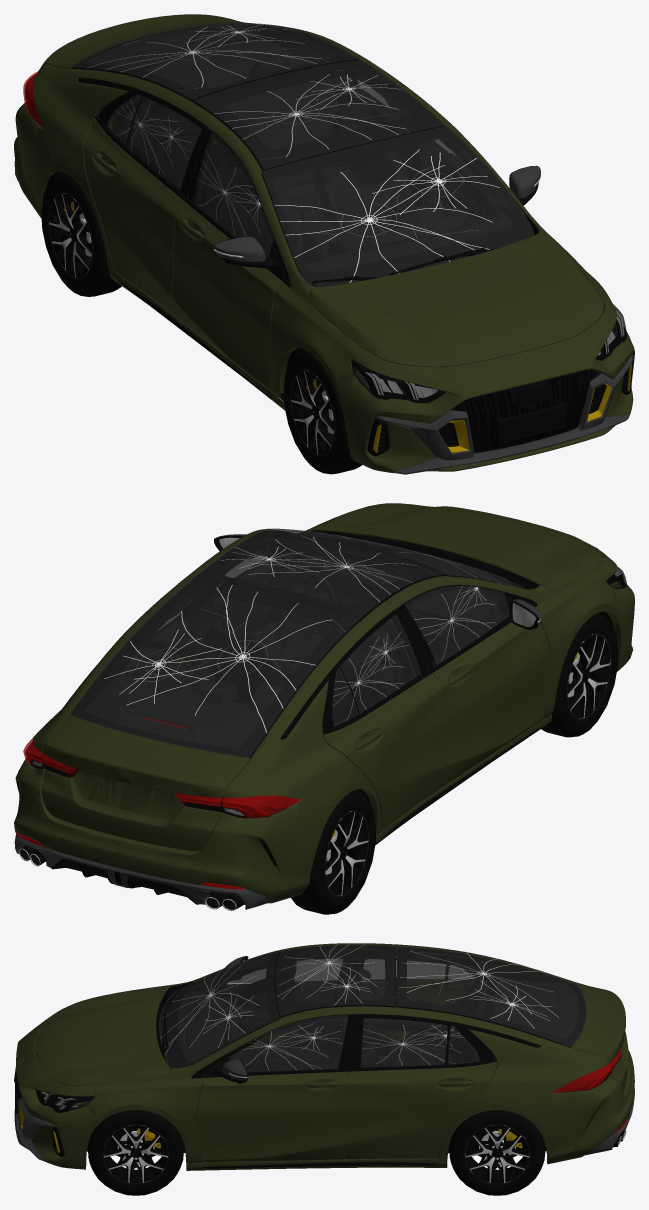
The model's file is GAC_Empow_High.glb.
3 views of the same model, one above another, from view 1: azimuth 30°, elevation 25°; view 2: azimuth 150°, elevation 25°; view 3: azimuth 270°, elevation 25° (orthographic). The views are drawn at different scales.
Parts seen in each view (by area): view 1: Interior__Interior, Body_Mid__C05__WindowsTrims, Body_Front__C13__Matte_Green, FrontBumper__C17__Matte_Green, Wheel_RR__Tires, Wheel_RF__Tires, Hood__C07__Matte_Green, FrontBumper__C12__Matte_Green, Body_Mid__C06__WindowsTrims, Body_Mid__C03__WindowsTrims, Hood__C04__Matte_Green, Hood__C03__Matte_Green (+119 smaller); view 2: Interior__Interior, Body_Front__C13__Matte_Green, Body_Rear__C08__Matte_Green, Body_Mid__C03__WindowsTrims, Wheel_RR__Tires, Wheel_RF__Tires, RearBumper__C11__Matte_Green, RearBumper__C02__Matte_Green, Body_Mid__C09__WindowsTrims, Trunk__C08__Matte_Green, RearBumper__C16__Matte_Green, Trunk__C09__Matte_Green (+112 smaller); view 3: Interior__Interior, RearBumper__C03__Matte_Green, Wheel_LF__Tires, Wheel_LR__Tires, Door_L__C10__Matte_Green, Door_L__C07__Matte_Green, Body_Rear__C14__Matte_Green, Wheel_LF__Rims2, Wheel_LR__Rims2, Door_L__C09__Matte_Green, Door_RL__C03__Matte_Green, Door_L__C08__Matte_Green (+119 smaller).
Part boxes in pixels (x1,y1,x2,y2): Interior__Interior: (86, 25, 513, 272); Body_Mid__C05__WindowsTrims: (303, 115, 444, 184); Body_Front__C13__Matte_Green: (270, 264, 344, 365); FrontBumper__C17__Matte_Green: (333, 347, 425, 439); Wheel_RR__Tires: (41, 172, 121, 296); Wheel_RF__Tires: (283, 349, 362, 474); Hood__C07__Matte_Green: (337, 309, 416, 365); FrontBumper__C12__Matte_Green: (411, 360, 506, 423); Body_Mid__C06__WindowsTrims: (219, 115, 327, 216); Body_Mid__C03__WindowsTrims: (122, 48, 290, 118); Hood__C04__Matte_Green: (373, 286, 456, 335); Hood__C03__Matte_Green: (501, 305, 589, 353); Interior__Interior: (86, 539, 516, 748); Body_Front__C13__Matte_Green: (523, 576, 603, 680); Body_Rear__C08__Matte_Green: (224, 732, 313, 799); Body_Mid__C03__WindowsTrims: (216, 589, 383, 691); Wheel_RR__Tires: (291, 790, 376, 914); Wheel_RF__Tires: (541, 613, 618, 737); RearBumper__C11__Matte_Green: (189, 812, 263, 871); RearBumper__C02__Matte_Green: (14, 763, 81, 851); Body_Mid__C09__WindowsTrims: (122, 573, 282, 665); Trunk__C08__Matte_Green: (139, 765, 189, 847); RearBumper__C16__Matte_Green: (110, 835, 196, 883); Trunk__C09__Matte_Green: (74, 776, 154, 844); Interior__Interior: (159, 950, 578, 1078); RearBumper__C03__Matte_Green: (517, 1087, 602, 1163); Wheel_LF__Tires: (88, 1110, 183, 1195); Wheel_LR__Tires: (449, 1110, 545, 1195); Door_L__C10__Matte_Green: (252, 1073, 323, 1142); Door_L__C07__Matte_Green: (203, 1126, 298, 1162); Body_Rear__C14__Matte_Green: (512, 1039, 576, 1101); Wheel_LF__Rims2: (104, 1125, 167, 1183); Wheel_LR__Rims2: (465, 1125, 529, 1183); Door_L__C09__Matte_Green: (293, 1109, 344, 1160); Door_RL__C03__Matte_Green: (344, 1116, 397, 1159); Door_L__C08__Matte_Green: (224, 1079, 275, 1130).
Size of the model in its own units: 2.12 by 1.47 by 4.7.
30 materials, 1 textured.
